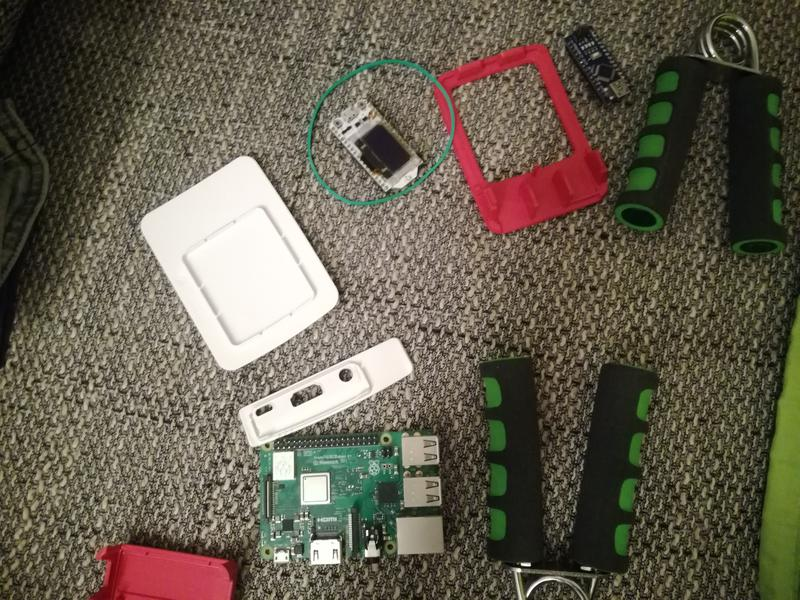Arduino_Nano: (561, 19, 640, 108)
Heltec_ESP32_Lora: (325, 96, 427, 197)
Raspberry_Pi_3: (249, 432, 449, 571)
